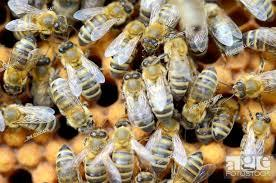worker-bee: (103, 118, 152, 182), (58, 40, 105, 100), (145, 110, 187, 177), (67, 129, 120, 182), (73, 0, 133, 45), (48, 77, 93, 132), (5, 0, 68, 39), (104, 20, 145, 77), (181, 67, 217, 128), (0, 103, 56, 141), (3, 36, 39, 94), (163, 37, 196, 100), (142, 55, 173, 122), (141, 2, 179, 54), (205, 3, 243, 55), (122, 71, 154, 132), (240, 110, 270, 157), (171, 151, 215, 182), (232, 70, 275, 99), (211, 98, 239, 140), (55, 144, 81, 182), (243, 27, 275, 54)
